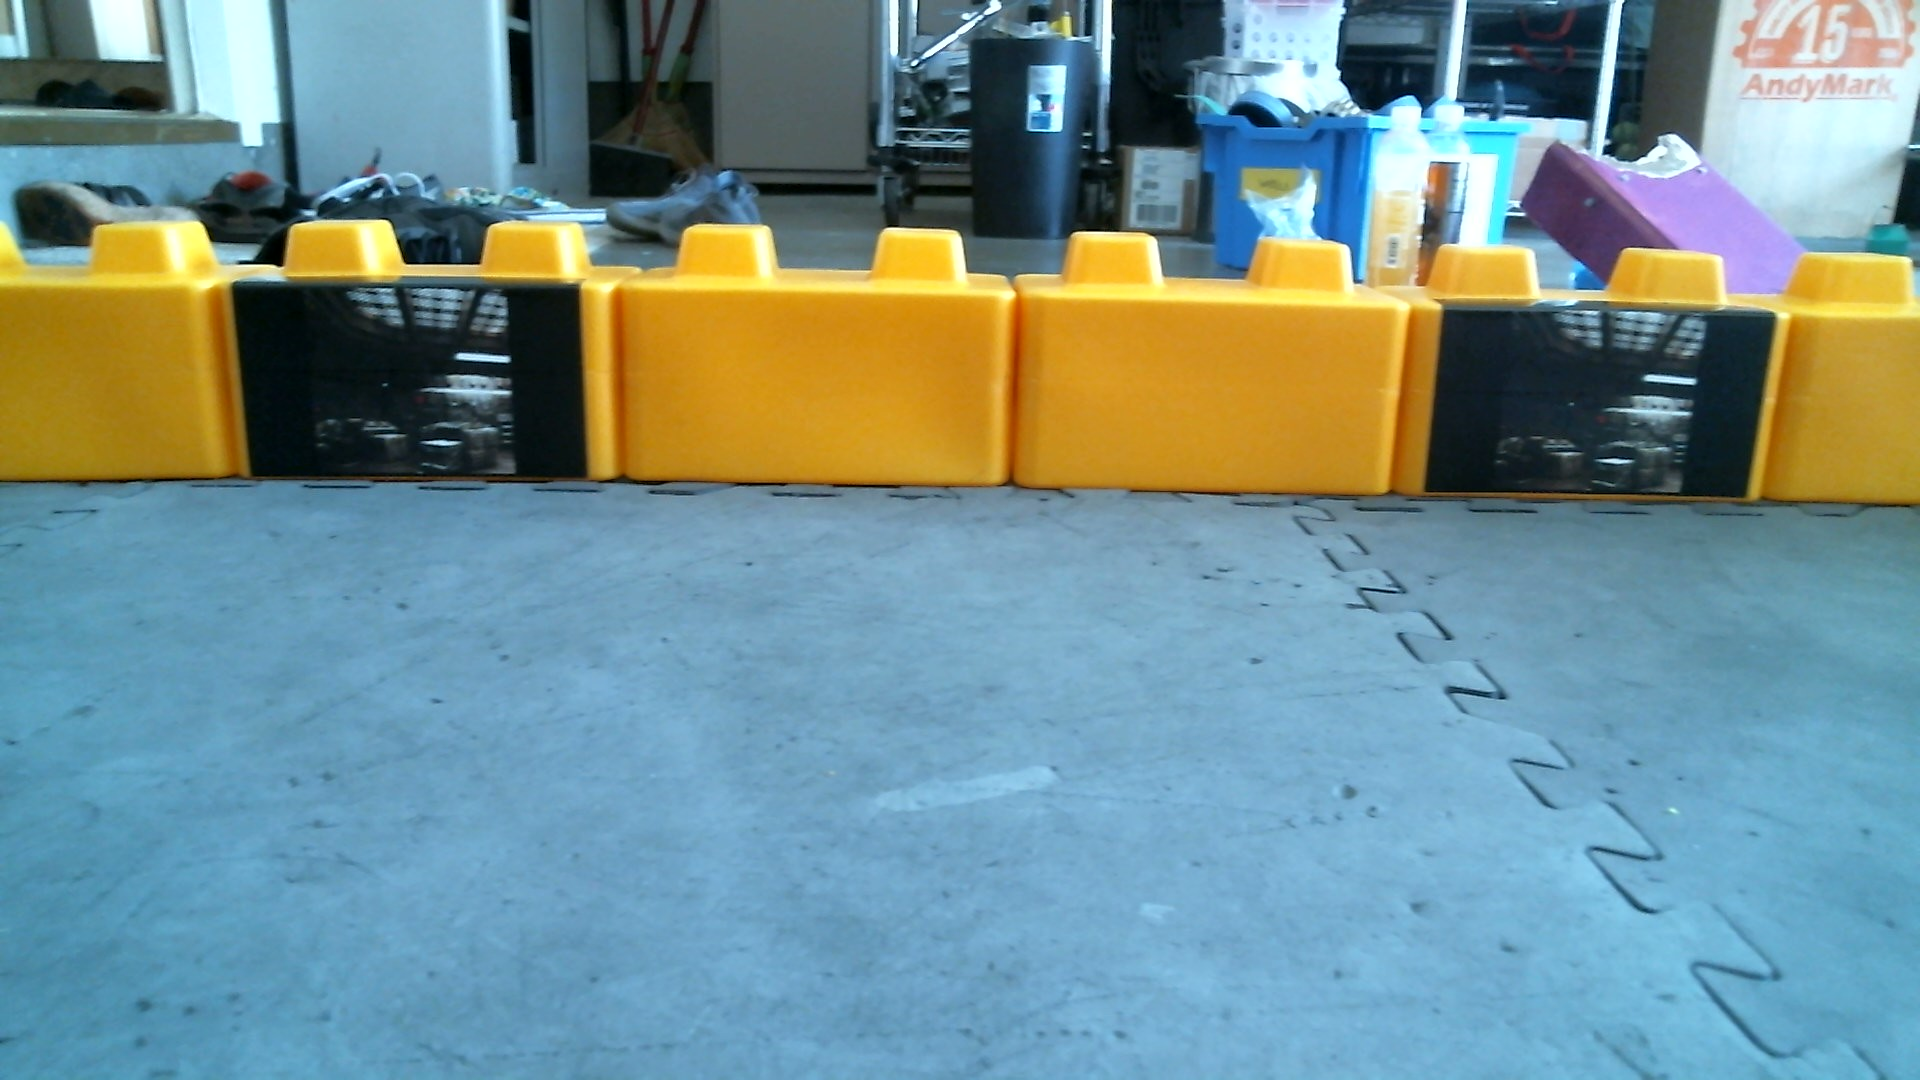skystone: (232, 214, 615, 500), (1400, 249, 1771, 527)
stone: (641, 227, 1011, 522), (1033, 233, 1404, 527), (1, 218, 244, 513), (1789, 255, 1920, 534)
